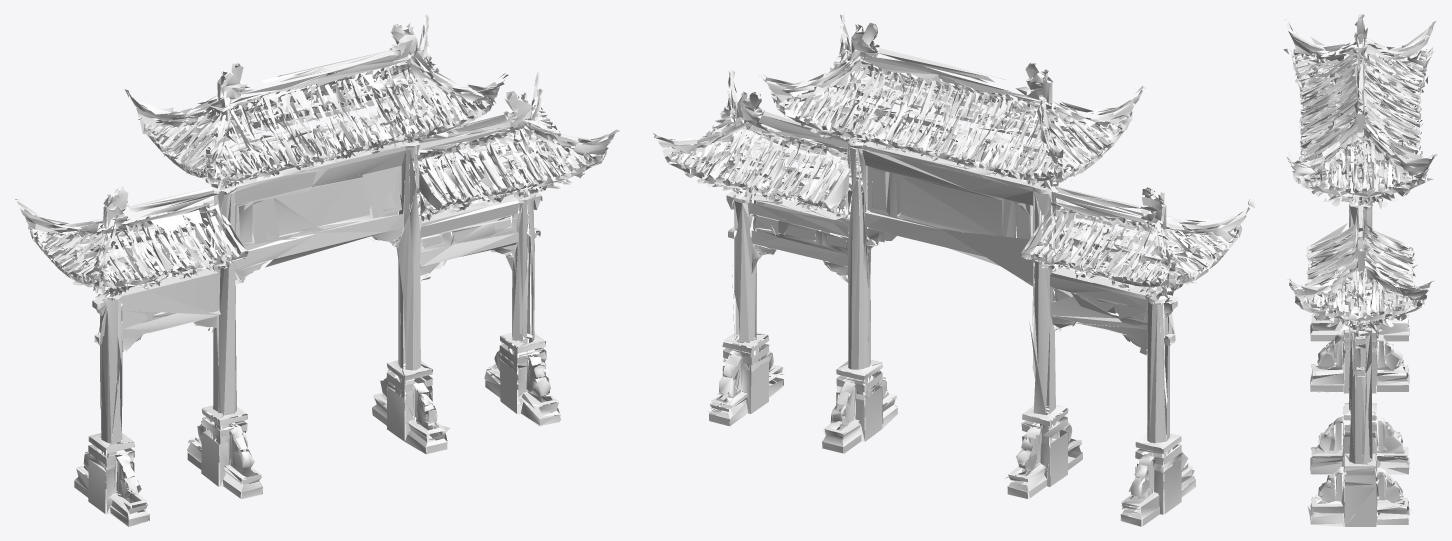
Rendered from paifang_gate_lod2.glb.
The picture shows the model from 3 angles, left to right: view 1: azimuth 30°, elevation 25°; view 2: azimuth 150°, elevation 25°; view 3: azimuth 270°, elevation 25°; orthographic projection. The views are drawn at different scales.
Parts seen in each view (by area): view 1: Mesh_0; view 2: Mesh_0; view 3: Mesh_0.
Part boxes in pixels (bbox=[...]): Mesh_0: bbox=[15, 14, 619, 526]; Mesh_0: bbox=[649, 14, 1254, 526]; Mesh_0: bbox=[1283, 14, 1437, 526].
Size of the model in its own units: 12.95 by 9.68 by 3.61.
1 material, 1 textured.
